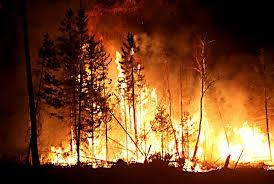fire: (48, 34, 267, 167)
